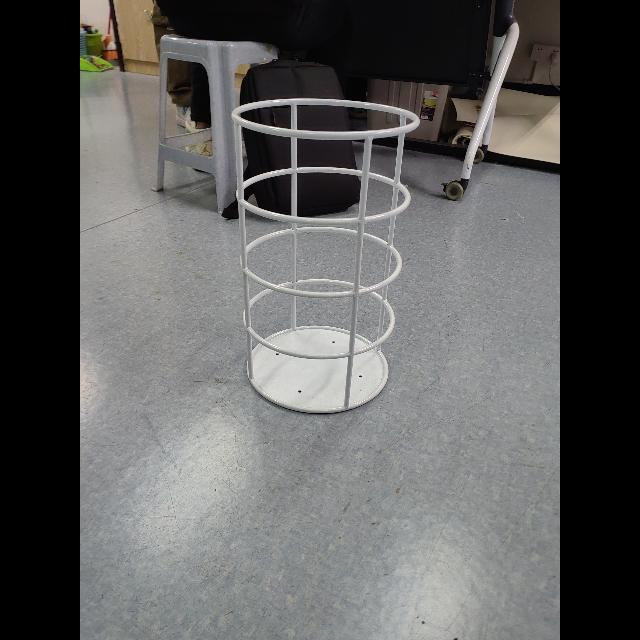S: (226, 97, 424, 417)
